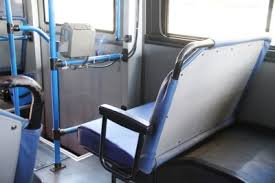seat: (82, 98, 159, 176)
